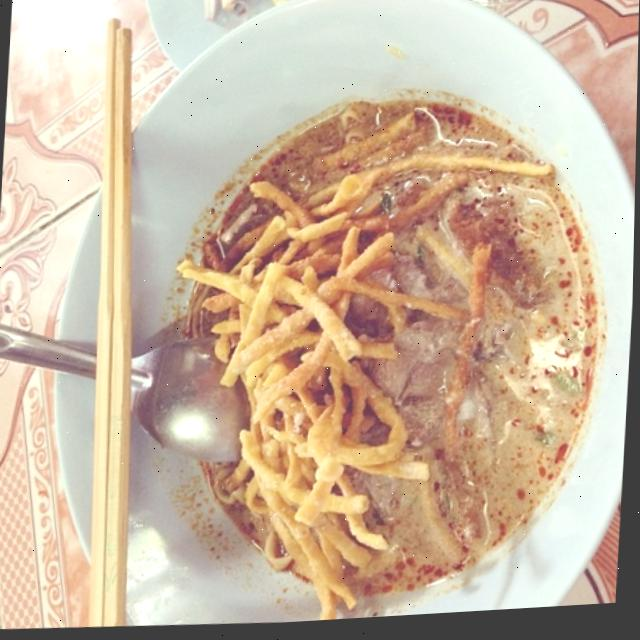面条主食: (47, 0, 639, 637)
